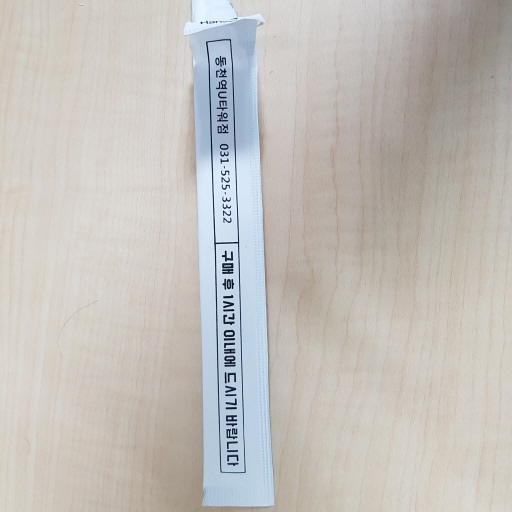Paper_2: (178, 21, 294, 511)
